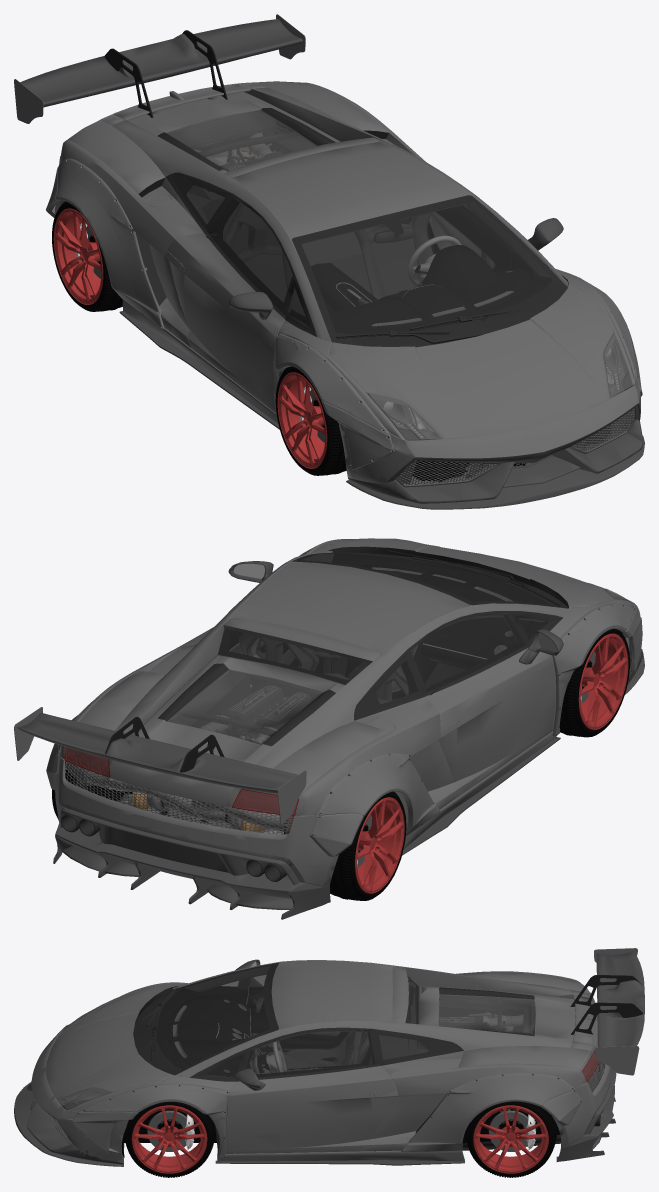
The model's file is gallardo_70.glb.
3 renders of one model, top to bottom at view 1: azimuth 30°, elevation 25°; view 2: azimuth 150°, elevation 25°; view 3: azimuth 270°, elevation 25°, orthographic. The views are drawn at different scales.
Parts seen in each view (by area): view 1: gallardo_hood_b_gallardo_paint_0, gallardo_tankintake_gallardo_turbo_matblack_0, gallardo_wheel_02a_19x11_gallardo_wheel_01a_0, gallardo_backlight_tinted_gallardo_glass_tinted_0, gallardo_comodo_gallardo_cockpit_0; view 2: gallardo_wheel_02a_19x11_gallardo_wheel_01a_0, gallardo_tankintake_gallardo_turbo_matblack_0, gallardo_hood_b_gallardo_paint_0, gallardo_comodo_gallardo_cockpit_0, gallardo_backlight_tinted_gallardo_glass_tinted_0; view 3: gallardo_hood_b_gallardo_paint_0, gallardo_wheel_02a_19x11_gallardo_wheel_01a_0, gallardo_tankintake_gallardo_turbo_matblack_0, gallardo_comodo_gallardo_cockpit_0, gallardo_backlight_tinted_gallardo_glass_tinted_0.
Part boxes in pixels (box(x1,y1,x2,y2)): gallardo_hood_b_gallardo_paint_0: box(14, 14, 642, 483); gallardo_tankintake_gallardo_turbo_matblack_0: box(20, 19, 644, 509); gallardo_wheel_02a_19x11_gallardo_wheel_01a_0: box(53, 81, 568, 468); gallardo_backlight_tinted_gallardo_glass_tinted_0: box(166, 110, 628, 440); gallardo_comodo_gallardo_cockpit_0: box(52, 111, 633, 481); gallardo_wheel_02a_19x11_gallardo_wheel_01a_0: box(60, 551, 628, 893); gallardo_tankintake_gallardo_turbo_matblack_0: box(17, 551, 644, 919); gallardo_hood_b_gallardo_paint_0: box(14, 538, 642, 886); gallardo_comodo_gallardo_cockpit_0: box(52, 544, 629, 900); gallardo_backlight_tinted_gallardo_glass_tinted_0: box(65, 538, 628, 815); gallardo_hood_b_gallardo_paint_0: box(31, 948, 639, 1162); gallardo_wheel_02a_19x11_gallardo_wheel_01a_0: box(124, 960, 597, 1173); gallardo_tankintake_gallardo_turbo_matblack_0: box(14, 951, 644, 1166); gallardo_comodo_gallardo_cockpit_0: box(62, 963, 561, 1177); gallardo_backlight_tinted_gallardo_glass_tinted_0: box(57, 966, 599, 1106).
Size of the model in its own units: 2.18 by 1.14 by 4.72.
Materials: 4 (4 with a texture image).
